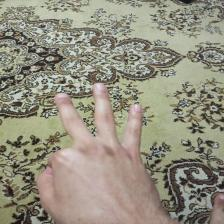five: (33, 81, 160, 223)
